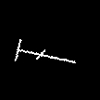double_crochet: (15, 39, 74, 62)
